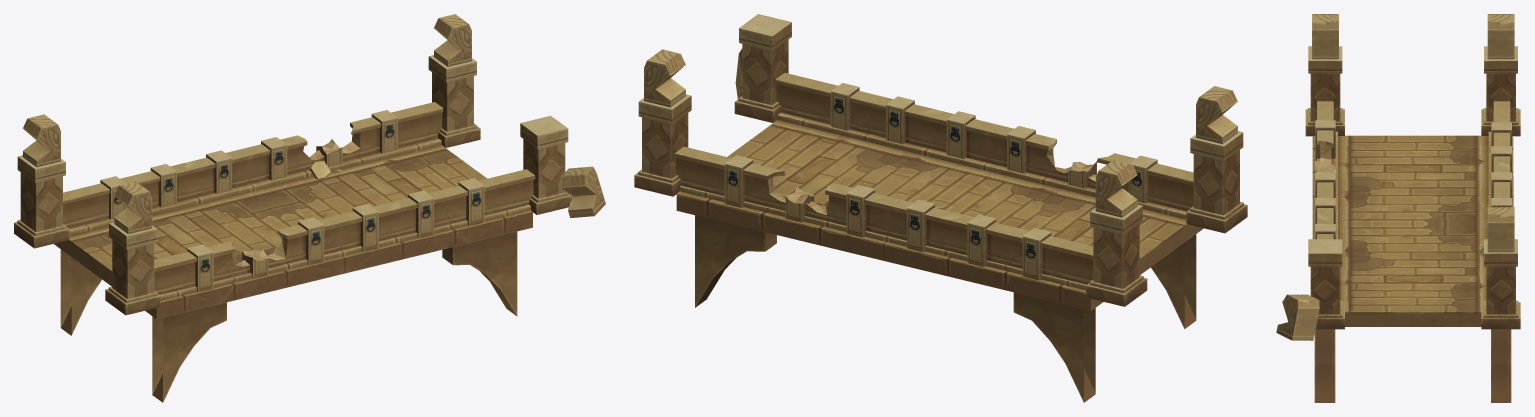
The model's file is Stage_ShaMo_Qiao01.FBX.
3 renders of one model, left to right at view 1: azimuth 30°, elevation 25°; view 2: azimuth 150°, elevation 25°; view 3: azimuth 270°, elevation 25°, orthographic. The views are drawn at different scales.
Parts seen in each view (by area): view 1: Stage_ShaMo_Qiao01; view 2: Stage_ShaMo_Qiao01; view 3: Stage_ShaMo_Qiao01.
Boxes of the visible parts, x1,y1,x2,y2 form: Stage_ShaMo_Qiao01: [14, 14, 605, 402]; Stage_ShaMo_Qiao01: [634, 14, 1247, 402]; Stage_ShaMo_Qiao01: [1276, 14, 1520, 402].
Bounding box in the file's own units: 1280 × 559 × 596.
